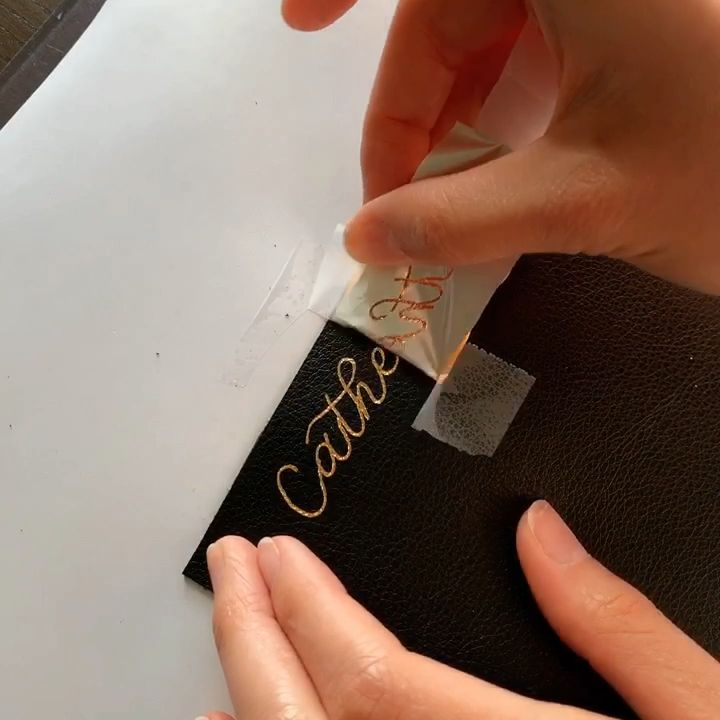cuero: (181, 251, 720, 720)
